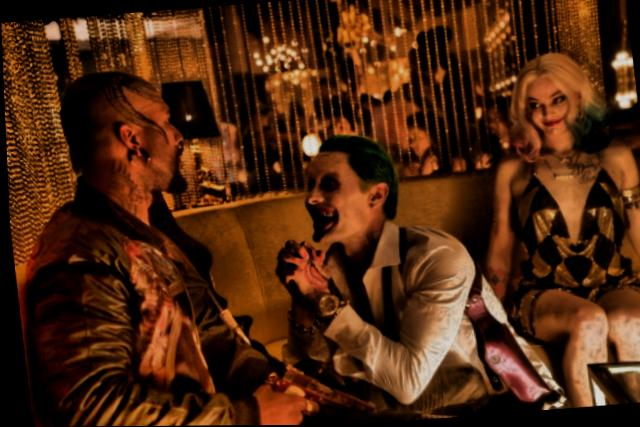pistol: (237, 346, 380, 426)
